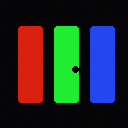0 point: (72, 66, 78, 72)
